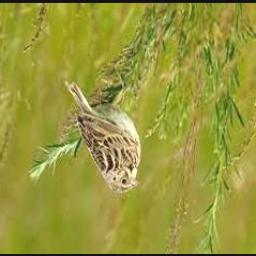Sparrow: (63, 79, 141, 193)
